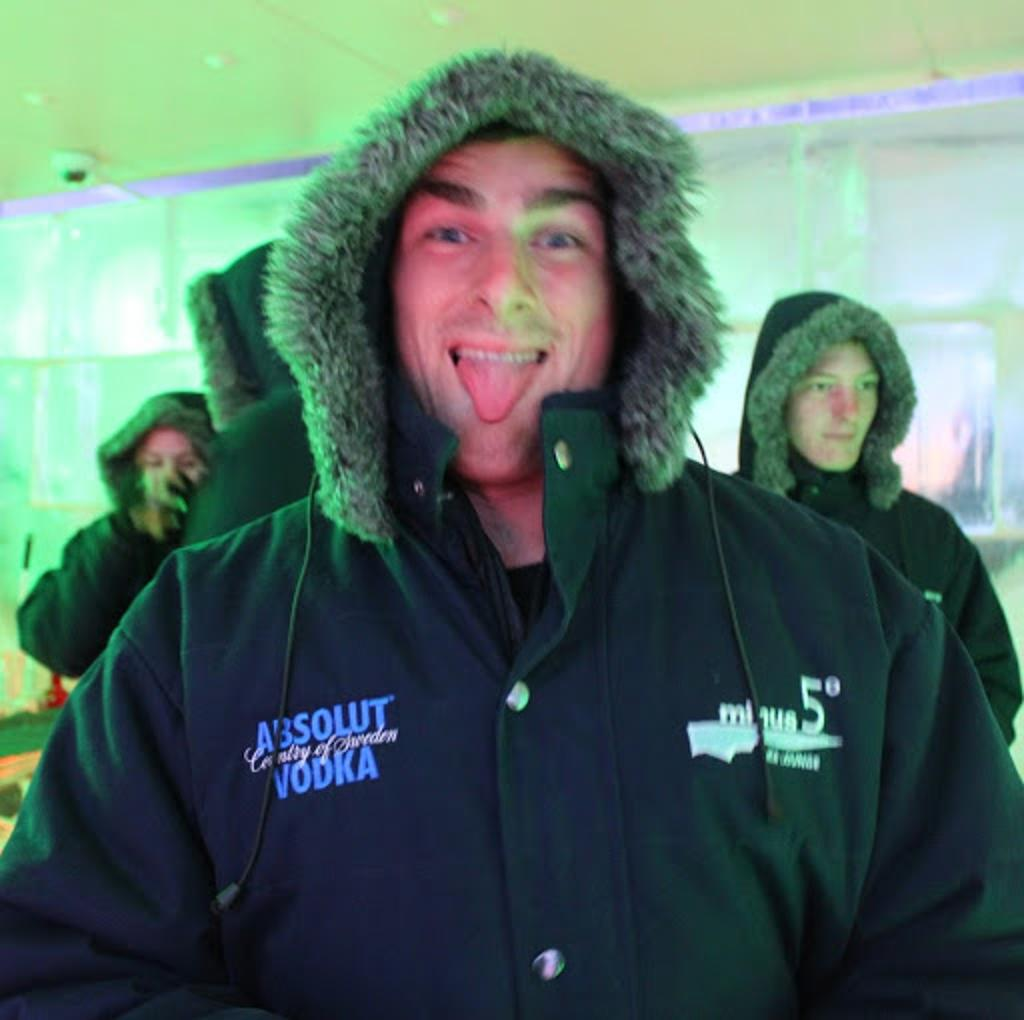face: (400, 132, 616, 484), (796, 320, 884, 466), (136, 420, 206, 524)
